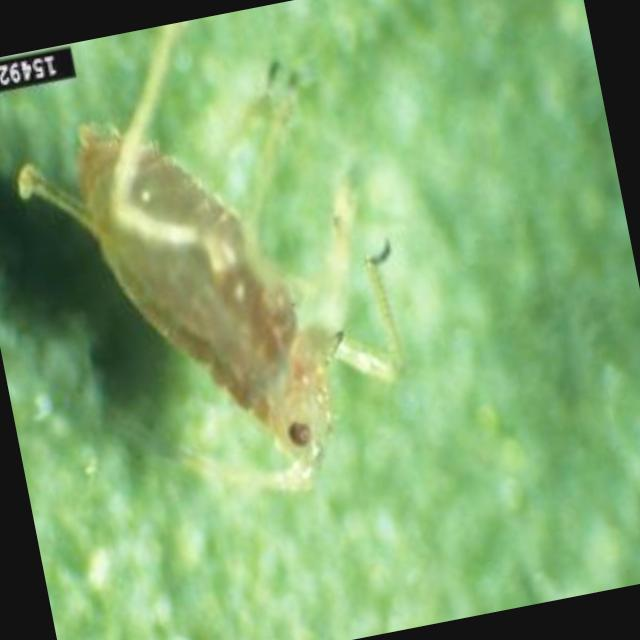Green peach aphid: (0, 17, 472, 569)
